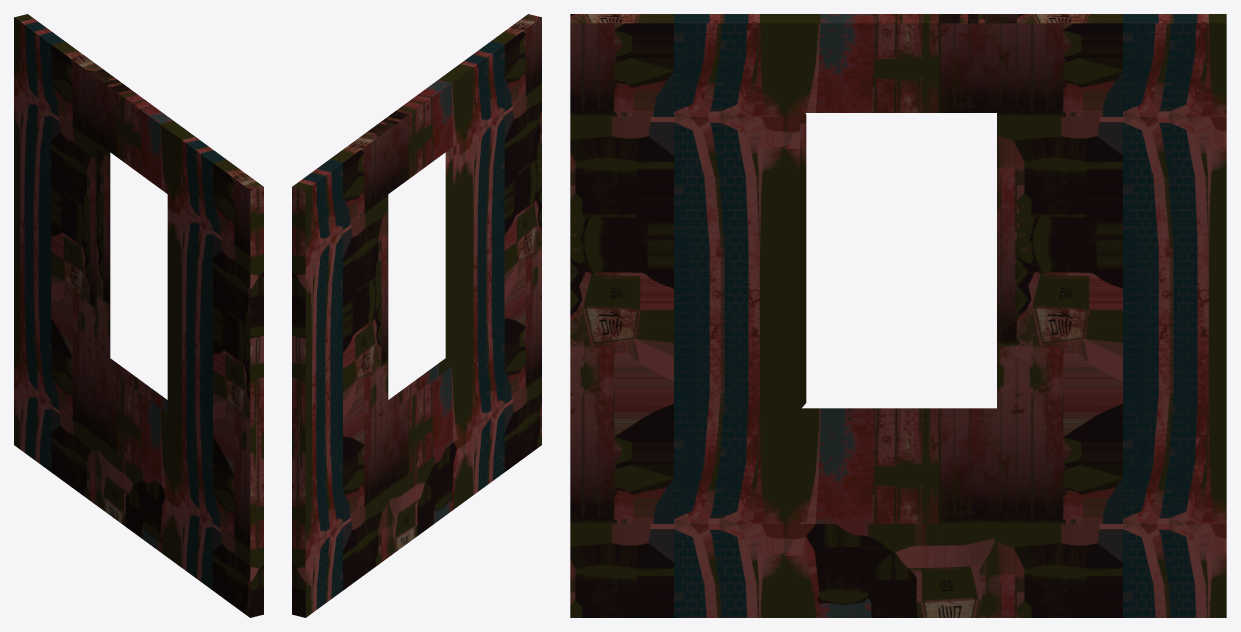
Rendered from PAREDE 3M UMA JANELA.fbx.
3 renders of one model, left to right at view 1: azimuth 30°, elevation 25°; view 2: azimuth 150°, elevation 25°; view 3: azimuth 270°, elevation 25°, orthographic. The views are drawn at different scales.
Visible parts, largest first — view 1: Cube.014; view 2: Cube.014; view 3: Cube.014.
Part boxes in pixels (x1,y1,x2,y2): Cube.014: [14, 14, 263, 617]; Cube.014: [292, 14, 541, 617]; Cube.014: [570, 14, 1226, 617].
Bounding box in the file's own units: 10 × 300 × 300.
